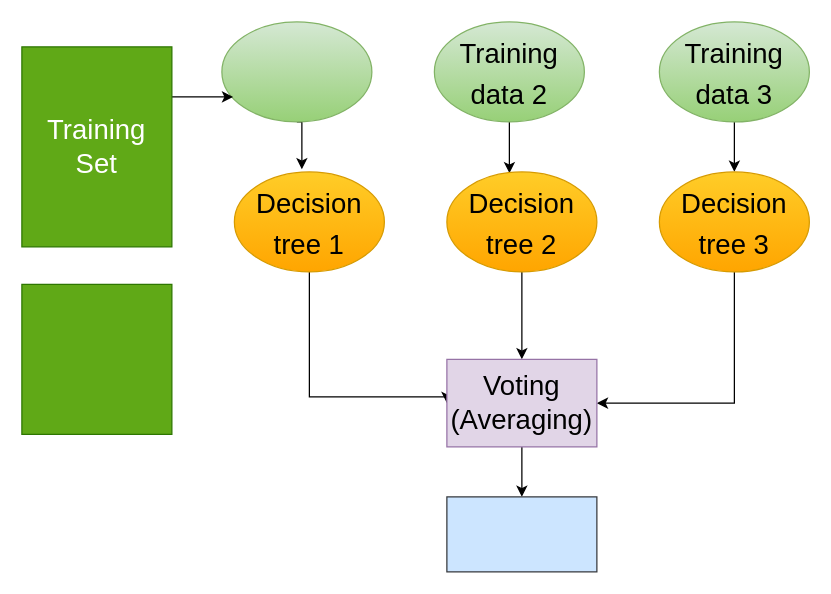
This 831x594 diagram has some shape labels left out. Here are the shapes that lost their labels. From the top down, the centre of each, then its label:
(296,71): Training data 1
(96,358): Test Set
(521,534): Prediction
